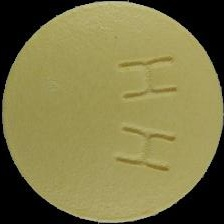43353-195: (0, 0, 224, 224)
